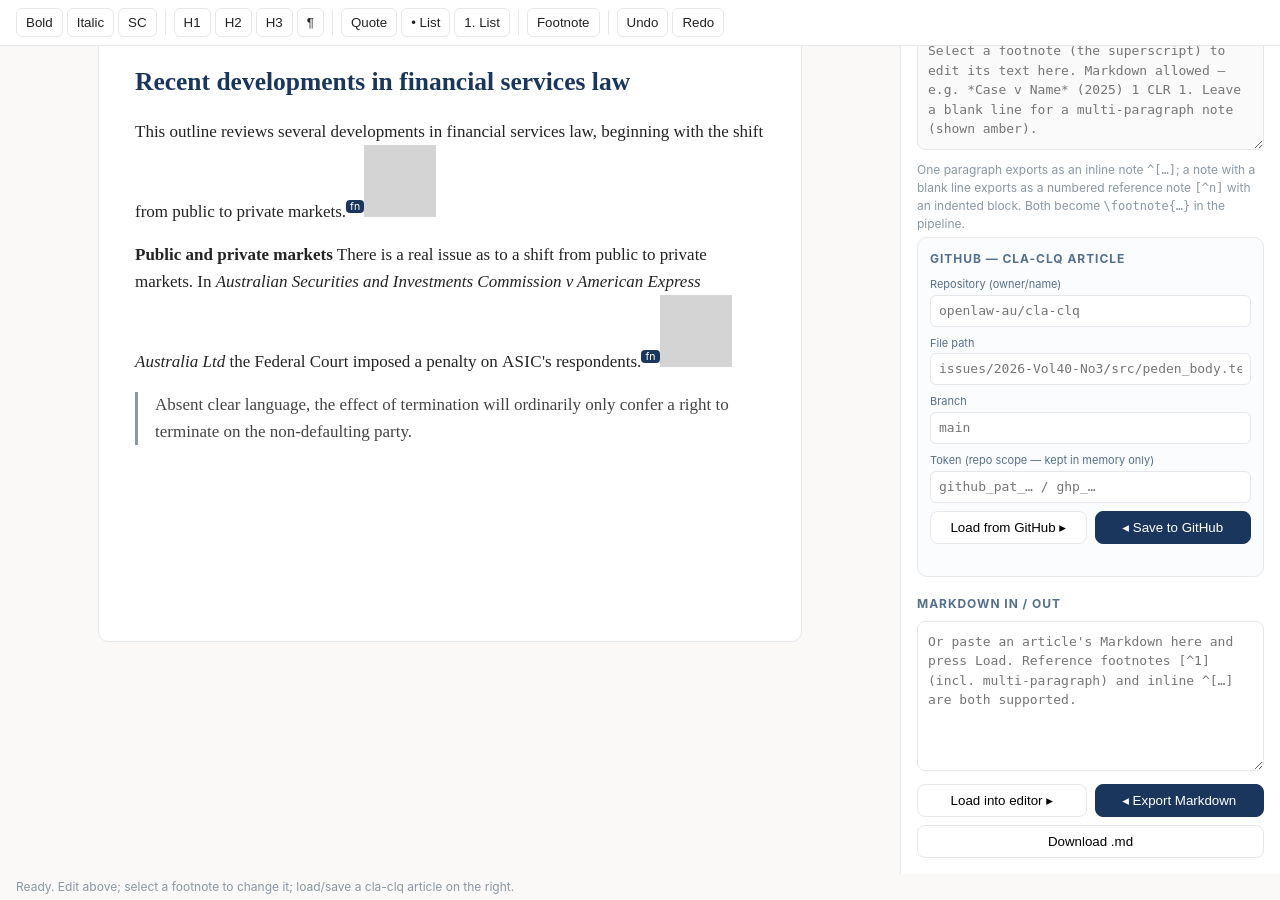
ProofingEditor › clicking Export serializes the current document into the Markdown textarea
(page scrolled)
Click the button "◂ Export Markdown" at (1179, 800), box [1094,784,1264,817]
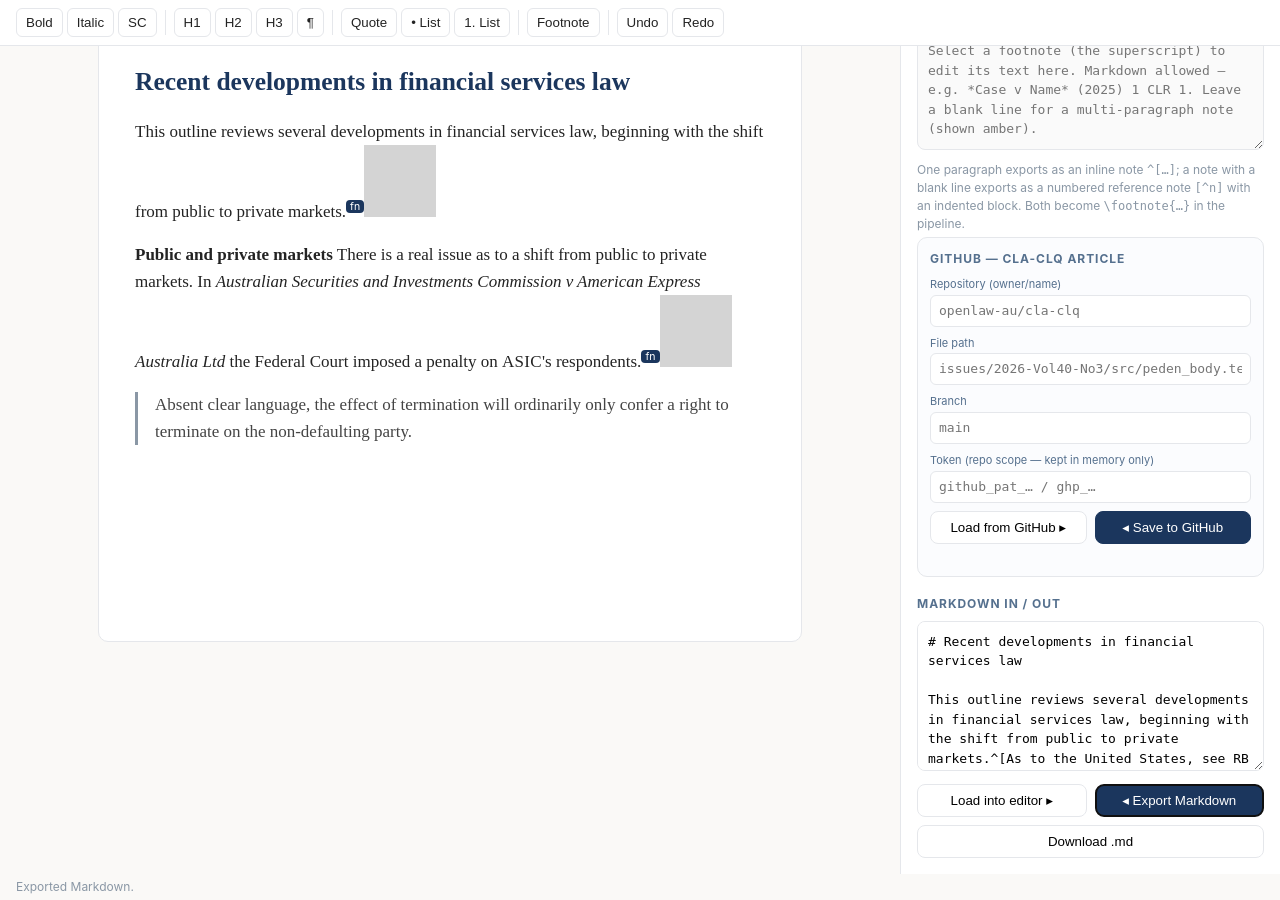
Result: the text "Exported Markdown." is shown at [16,879,134,894]
